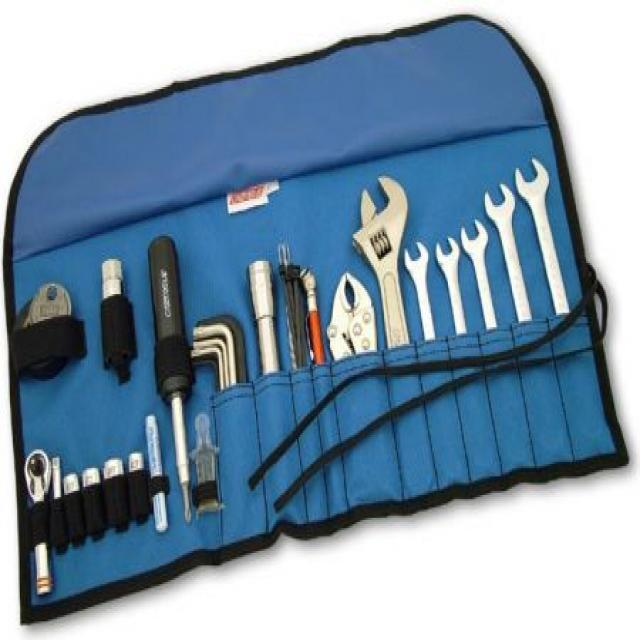Screwdriver: (143, 226, 198, 523)
Wrench: (352, 172, 418, 384), (513, 151, 574, 316), (482, 181, 536, 324), (458, 217, 504, 333), (400, 239, 442, 348), (434, 235, 473, 341)
